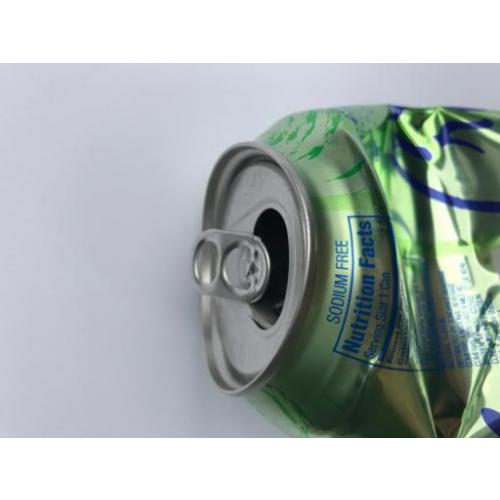metal: (195, 106, 499, 434)
